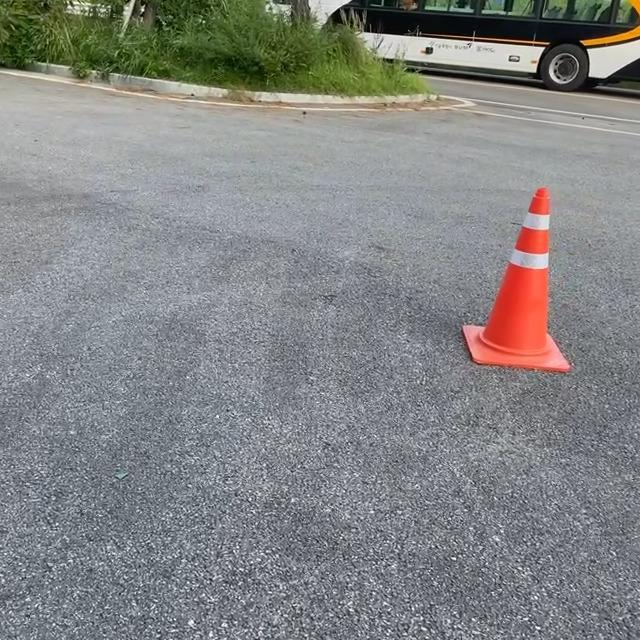fallen_object: (426, 176, 589, 395)
